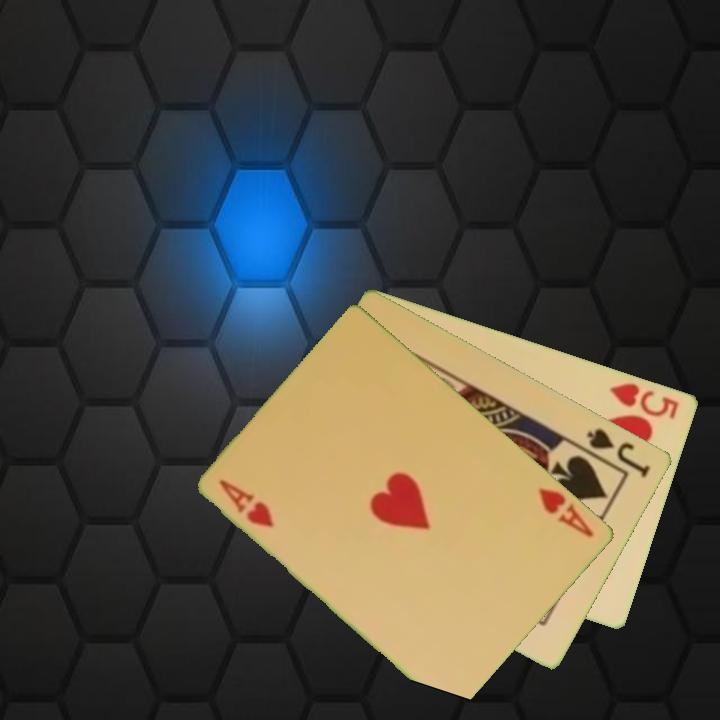5h: (606, 379, 683, 422)
Ah: (536, 484, 597, 540), (215, 476, 277, 530)
Js: (583, 424, 653, 481)
